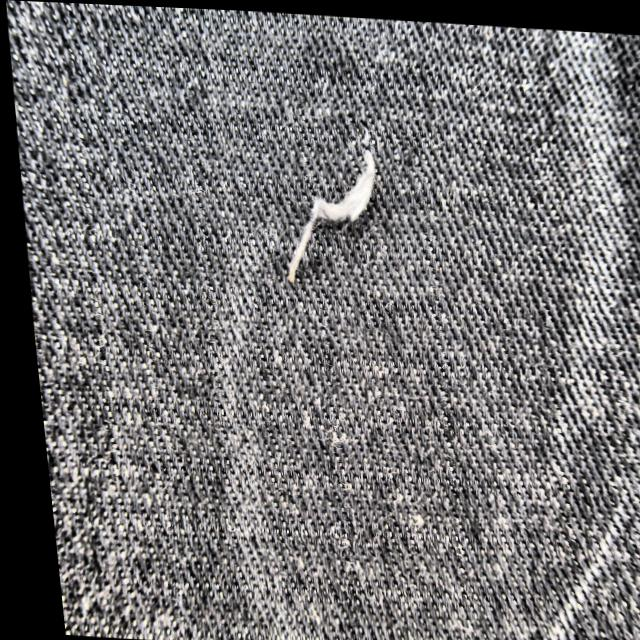Stitch: (227, 58, 401, 306)
